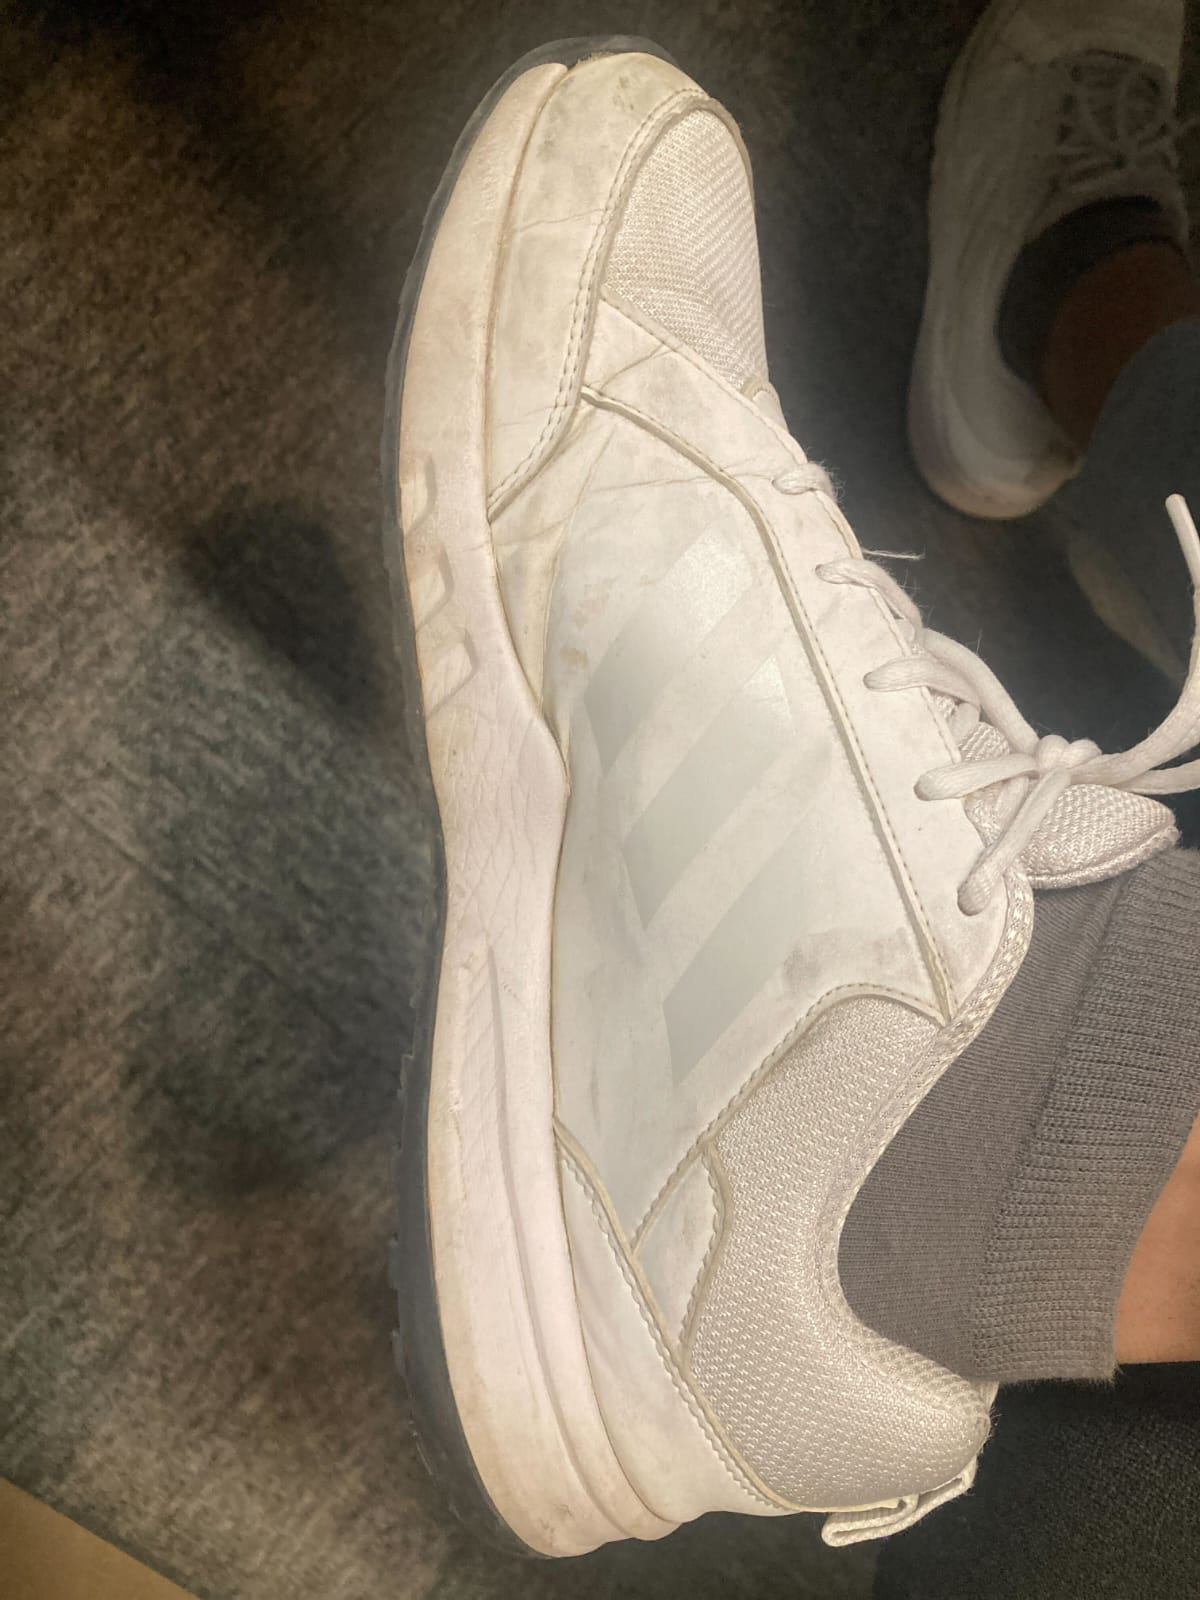Footwear: (271, 19, 1176, 1560)
